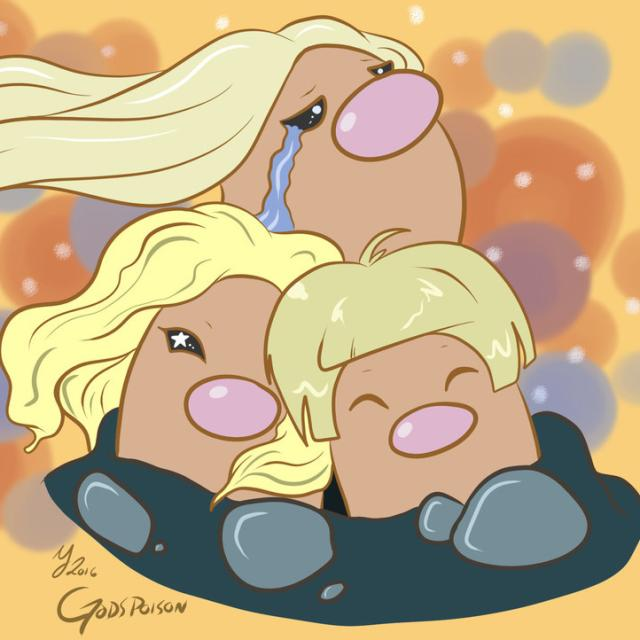Dugtrio: (101, 23, 528, 524)
